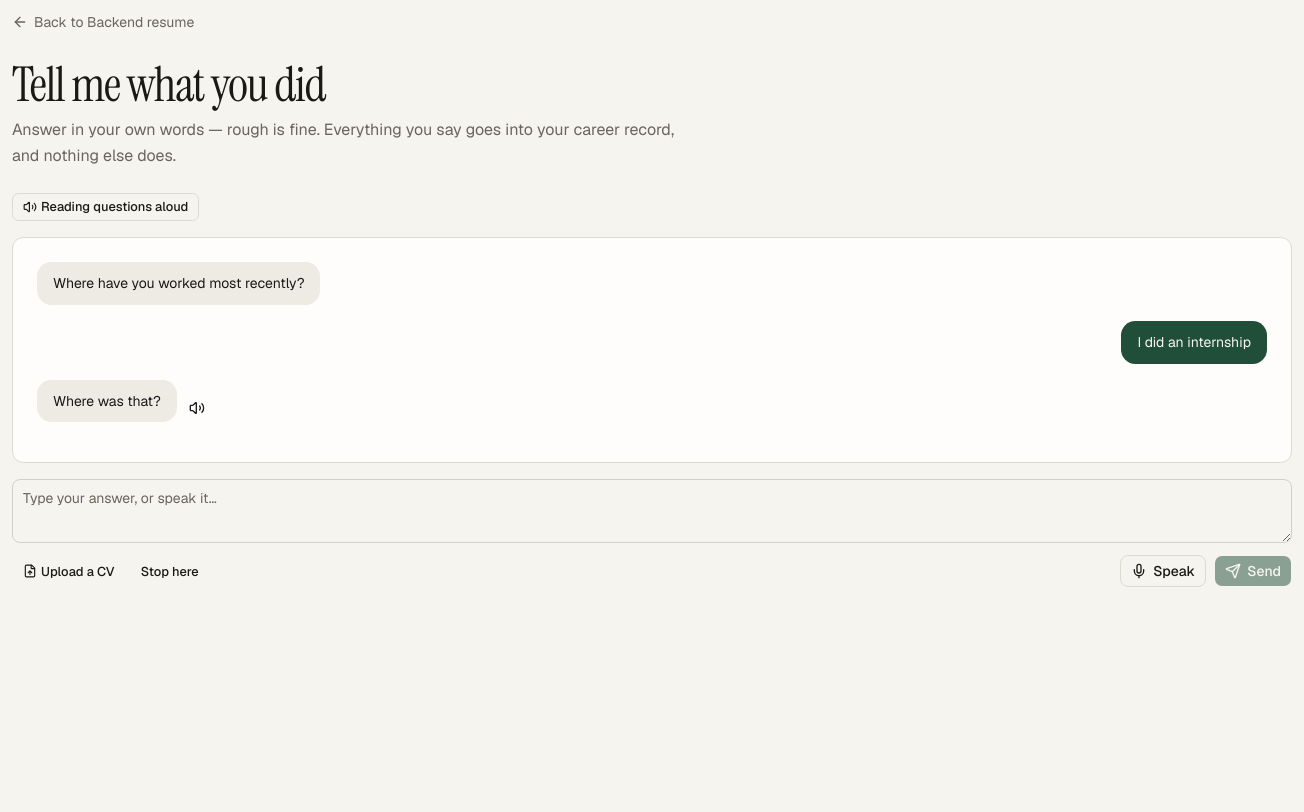
Test case: InterviewView › says plainly what it refused to record
The width and height of the screenshot is (1304, 812).
In the text box labelled "your answer": point(652, 511) [12,479,1292,543], type "I did an internship"
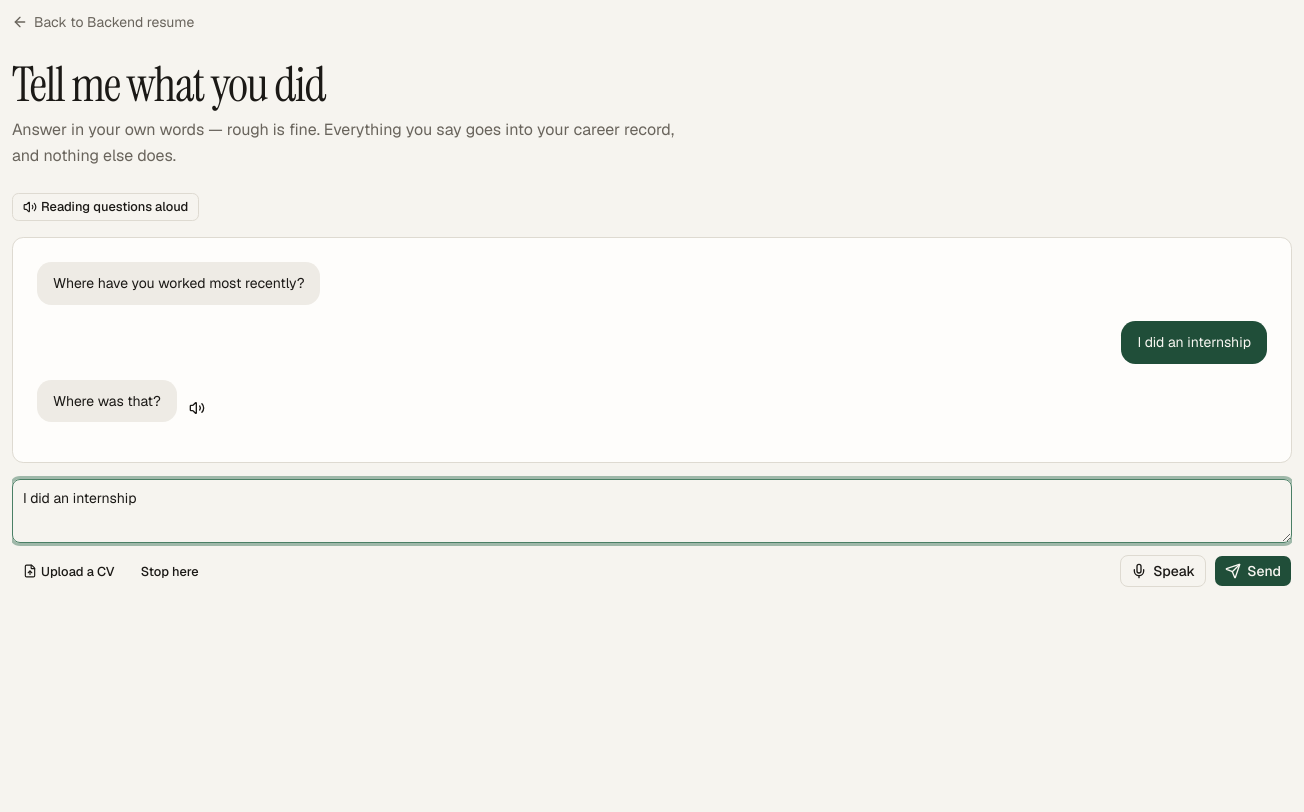
Click the button "Send": point(1253, 571) [1214,555,1292,587]
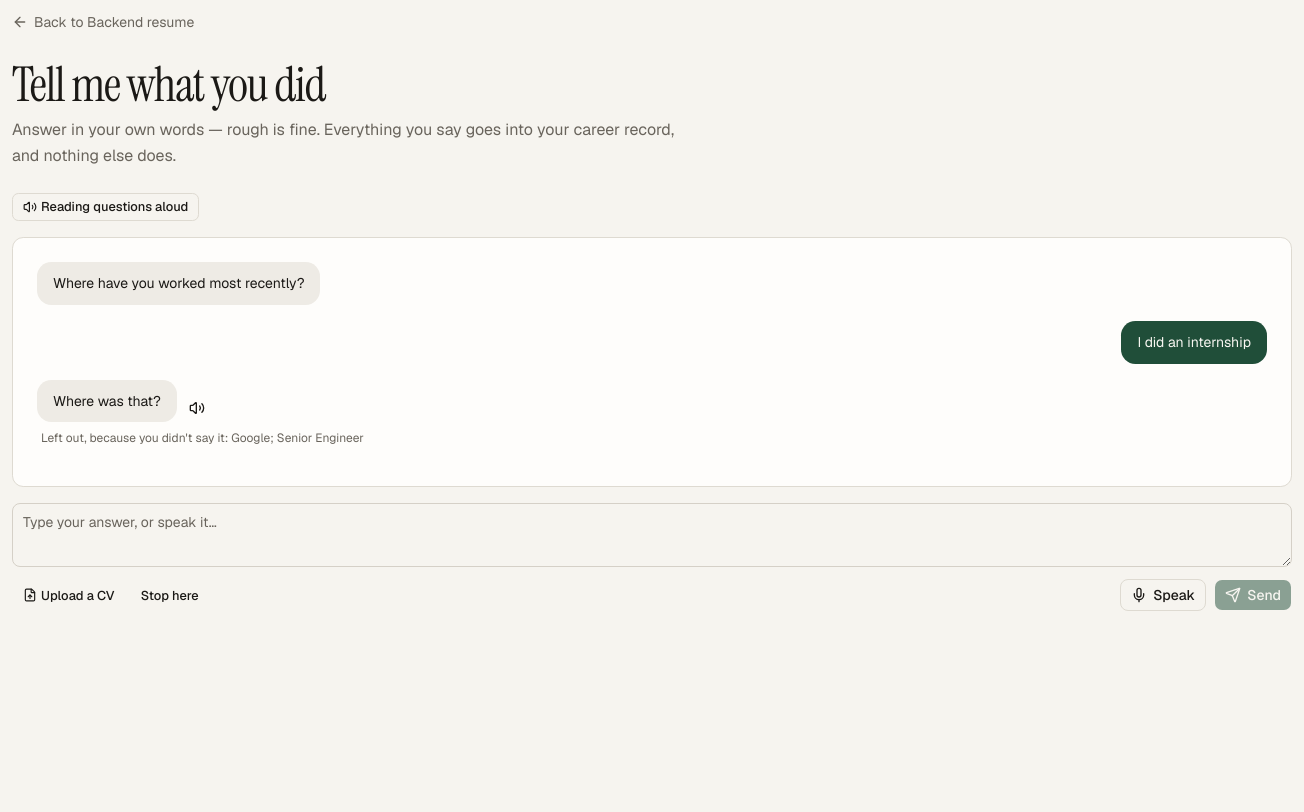
Result: the text "Left out, because you didn't say it: Google; Senior Engineer" is shown at [41,430,364,446]
